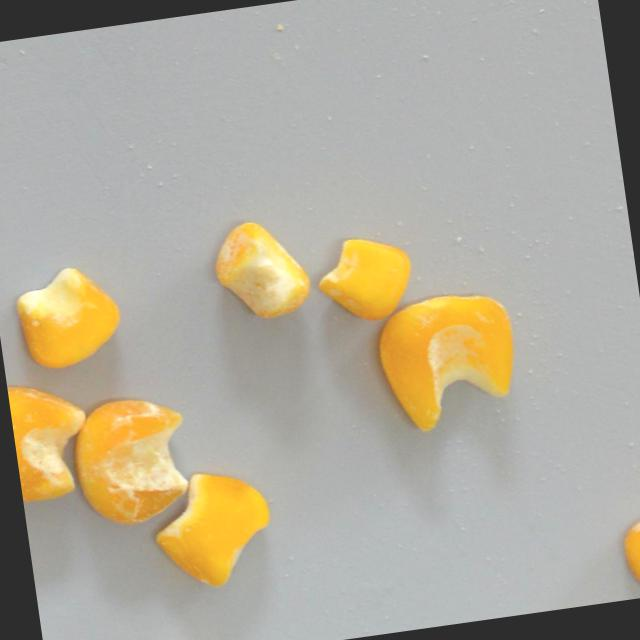no_canjicado: (372, 287, 525, 440), (146, 464, 279, 596), (10, 262, 127, 375)
pelicula: (66, 391, 195, 532), (206, 214, 315, 330), (6, 376, 96, 506), (311, 232, 419, 329), (616, 509, 640, 600)
